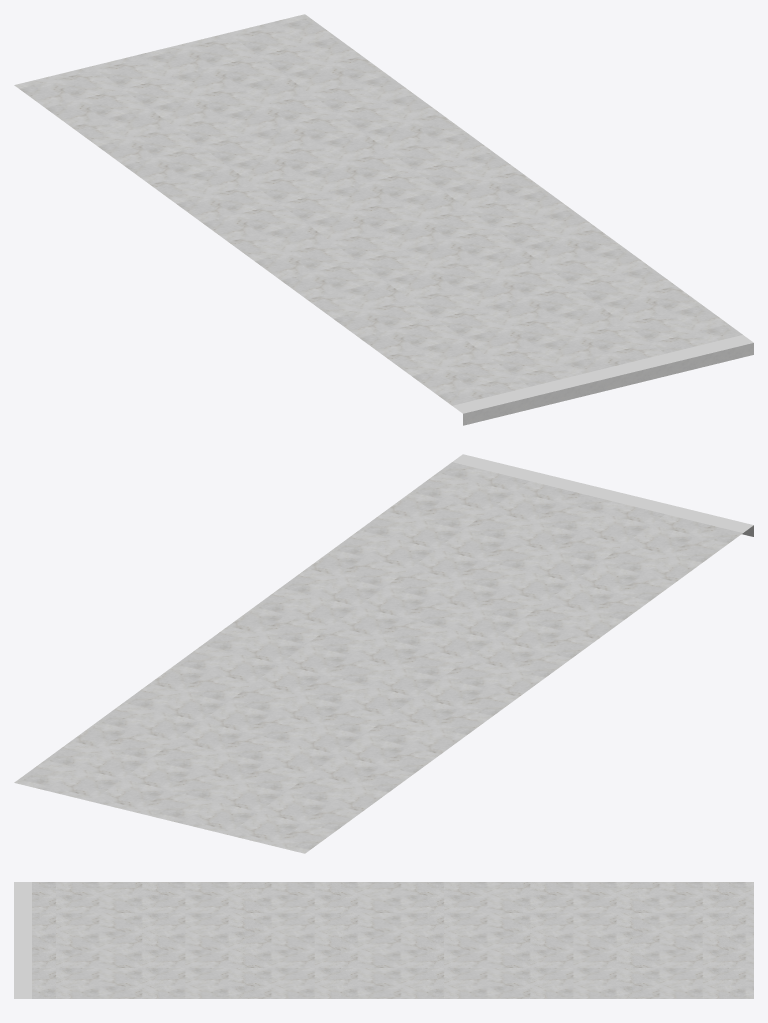
The model's file is KitchenFloor.fbx.
3 views of the same model, one above another, from view 1: azimuth 30°, elevation 25°; view 2: azimuth 150°, elevation 25°; view 3: azimuth 270°, elevation 25° (orthographic). The views are drawn at different scales.
Parts seen in each view (by area): view 1: Kitchen_Floor; view 2: Kitchen_Floor; view 3: Kitchen_Floor.
Boxes of the visible parts, bbox=[...] form: Kitchen_Floor: bbox=[14, 14, 753, 425]; Kitchen_Floor: bbox=[14, 454, 753, 853]; Kitchen_Floor: bbox=[14, 882, 753, 998].
Bounding box in the file's own units: 380 × 15 × 1016.
3 materials, 2 textured.
